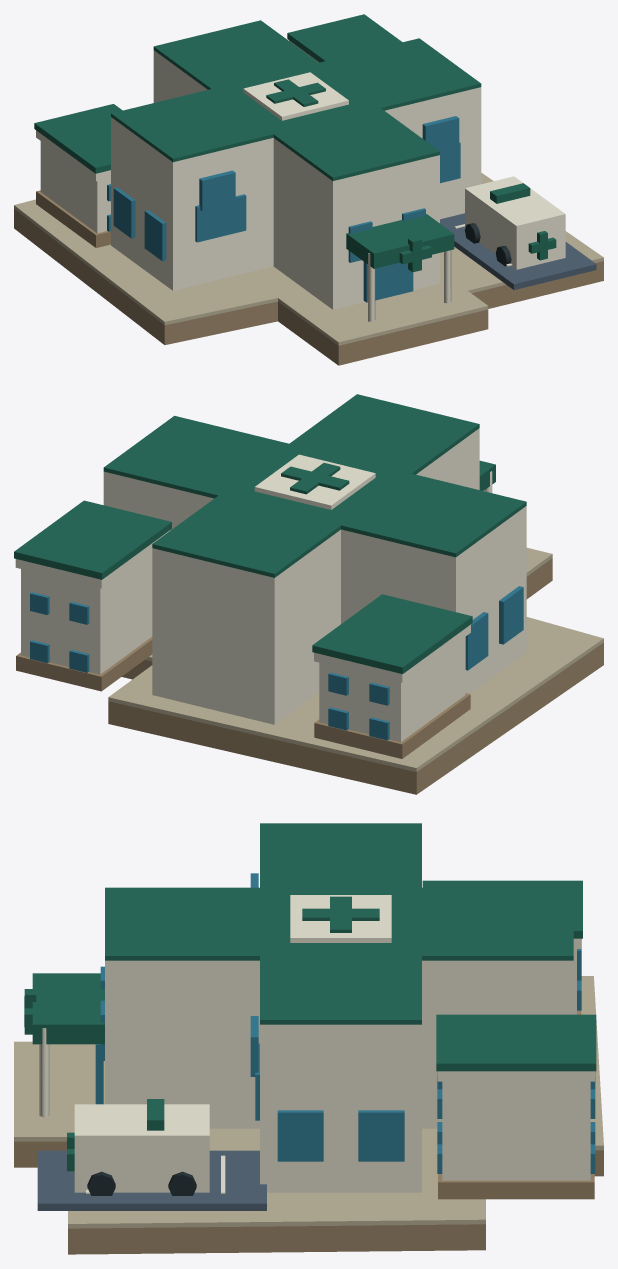
File: medical-center-lv3.glb
3 renders of one model, top to bottom at view 1: azimuth 30°, elevation 25°; view 2: azimuth 150°, elevation 25°; view 3: azimuth 270°, elevation 25°, orthographic. The views are drawn at different scales.
Visible parts, largest first — view 1: cross_clinic_white, cross_clinic_jade, foundation_paving, foundation_stoneDark, ambulance_white, inpatient_wing_white, entry_canopy_jade, inpatient_wing_roof_jade, ambulance_lane_slate, diagnostics_wing_roof_jade, clinic_windows_glass, upper_clinic_windows_glass (+10 smaller); view 2: cross_clinic_white, cross_clinic_jade, foundation_paving, foundation_stoneDark, diagnostics_wing_white, inpatient_wing_white, inpatient_wing_roof_jade, diagnostics_wing_roof_jade, roof_mark_white, inpatient_wing_stoneDark, diagnostics_wing_stoneDark, side_clinic_windows_glass (+3 smaller); view 3: cross_clinic_white, cross_clinic_jade, foundation_paving, diagnostics_wing_white, foundation_stoneDark, ambulance_white, diagnostics_wing_roof_jade, ambulance_lane_slate, entry_canopy_jade, side_clinic_windows_glass, roof_mark_white, diagnostics_wing_stoneDark (+8 smaller).
Part boxes in pixels (box(x1,y1,x2,y2)): cross_clinic_white: box(111, 50, 481, 309); cross_clinic_jade: box(111, 20, 481, 180); foundation_paving: box(14, 173, 603, 345); foundation_stoneDark: box(14, 209, 603, 365); ambulance_white: box(465, 176, 565, 269); inpatient_wing_white: box(36, 130, 110, 233); entry_canopy_jade: box(346, 214, 454, 268); inpatient_wing_roof_jade: box(34, 104, 122, 173); ambulance_lane_slate: box(440, 213, 596, 289); diagnostics_wing_roof_jade: box(287, 14, 402, 62); clinic_windows_glass: box(195, 142, 460, 262); upper_clinic_windows_glass: box(199, 116, 459, 211); cross_clinic_white: box(103, 428, 526, 724); cross_clinic_jade: box(103, 394, 526, 577); foundation_paving: box(108, 547, 603, 771); foundation_stoneDark: box(108, 558, 603, 794); diagnostics_wing_white: box(15, 530, 170, 674); inpatient_wing_white: box(314, 624, 470, 742); inpatient_wing_roof_jade: box(312, 594, 472, 673); diagnostics_wing_roof_jade: box(14, 500, 171, 579); roof_mark_white: box(254, 454, 375, 509); inpatient_wing_stoneDark: box(314, 693, 470, 758); diagnostics_wing_stoneDark: box(16, 637, 152, 691); side_clinic_windows_glass: box(465, 586, 523, 670); cross_clinic_white: box(105, 960, 573, 1192); cross_clinic_jade: box(105, 823, 573, 1024); foundation_paving: box(14, 976, 603, 1228); diagnostics_wing_white: box(437, 1071, 594, 1180); foundation_stoneDark: box(14, 1141, 603, 1254); ambulance_white: box(74, 1104, 209, 1192); diagnostics_wing_roof_jade: box(436, 1014, 596, 1071); ambulance_lane_slate: box(37, 1150, 266, 1210); entry_canopy_jade: box(32, 973, 104, 1044); side_clinic_windows_glass: box(277, 1110, 404, 1161); roof_mark_white: box(290, 895, 391, 942); diagnostics_wing_stoneDark: box(438, 1174, 594, 1199).
Bounding box in the file's own units: 1 × 0.3915 × 0.9887.
